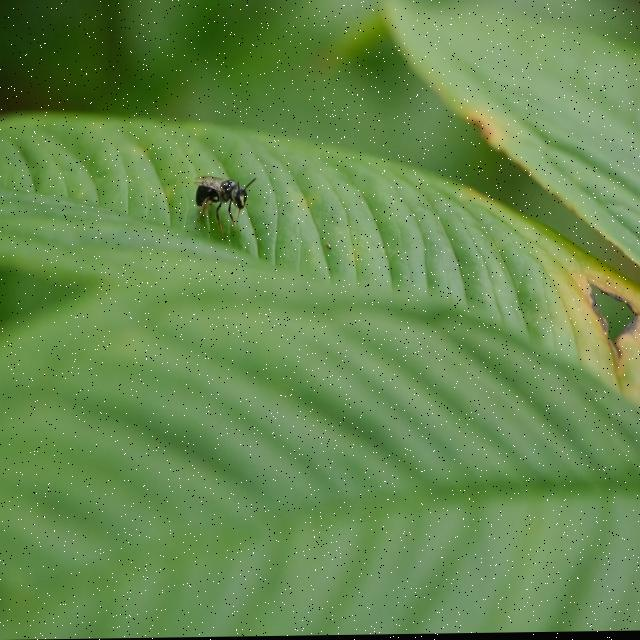Braunsapis: (187, 163, 260, 233)
